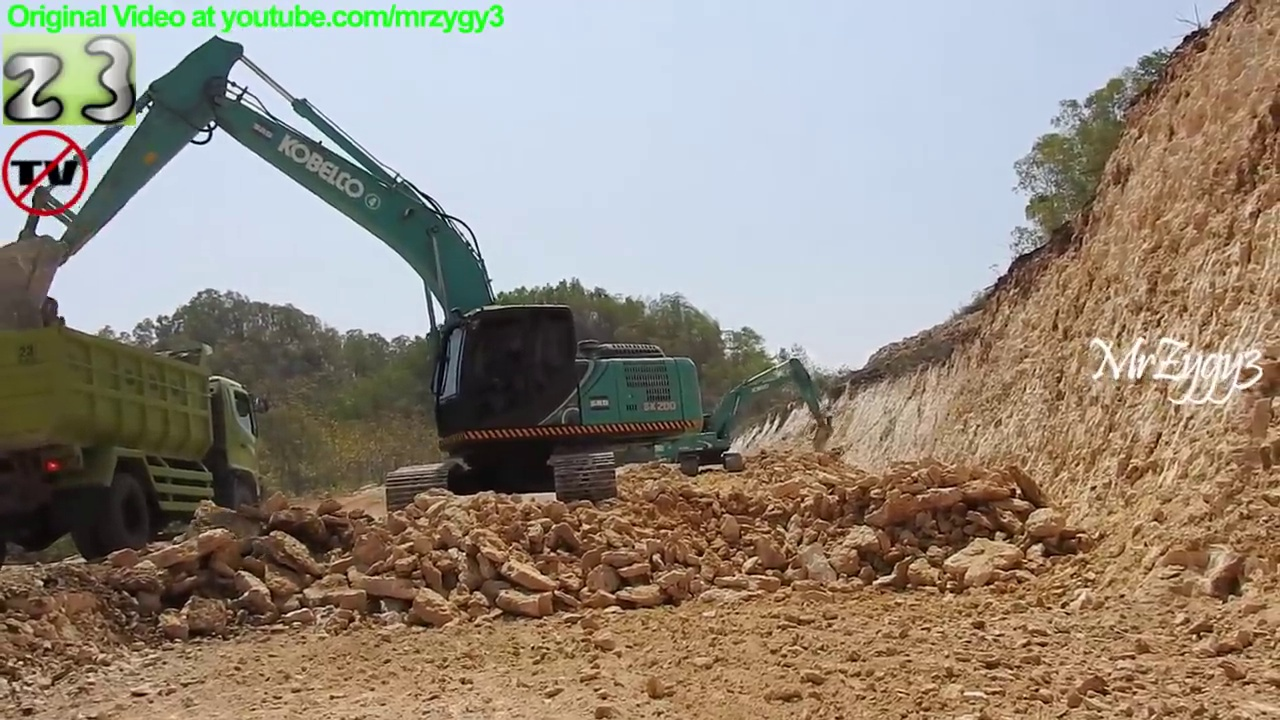excavator: (1, 32, 709, 530), (643, 352, 837, 481)
truck: (1, 313, 278, 575)
